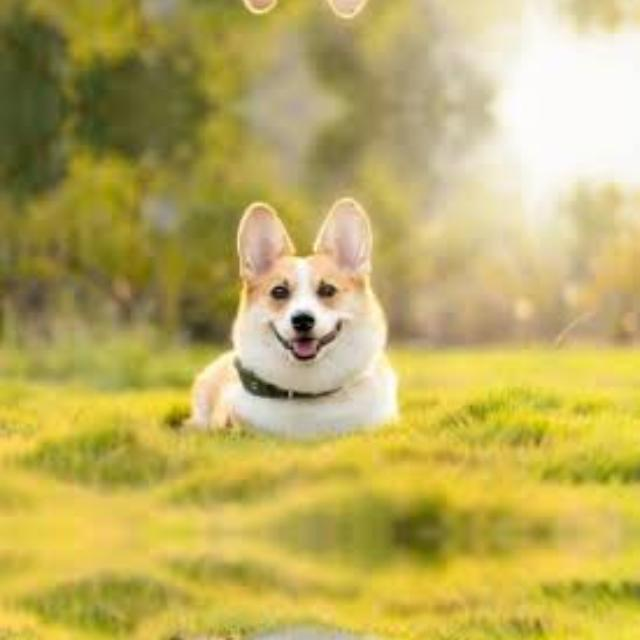dog: (177, 189, 417, 457), (177, 609, 417, 640), (177, 0, 417, 25)
